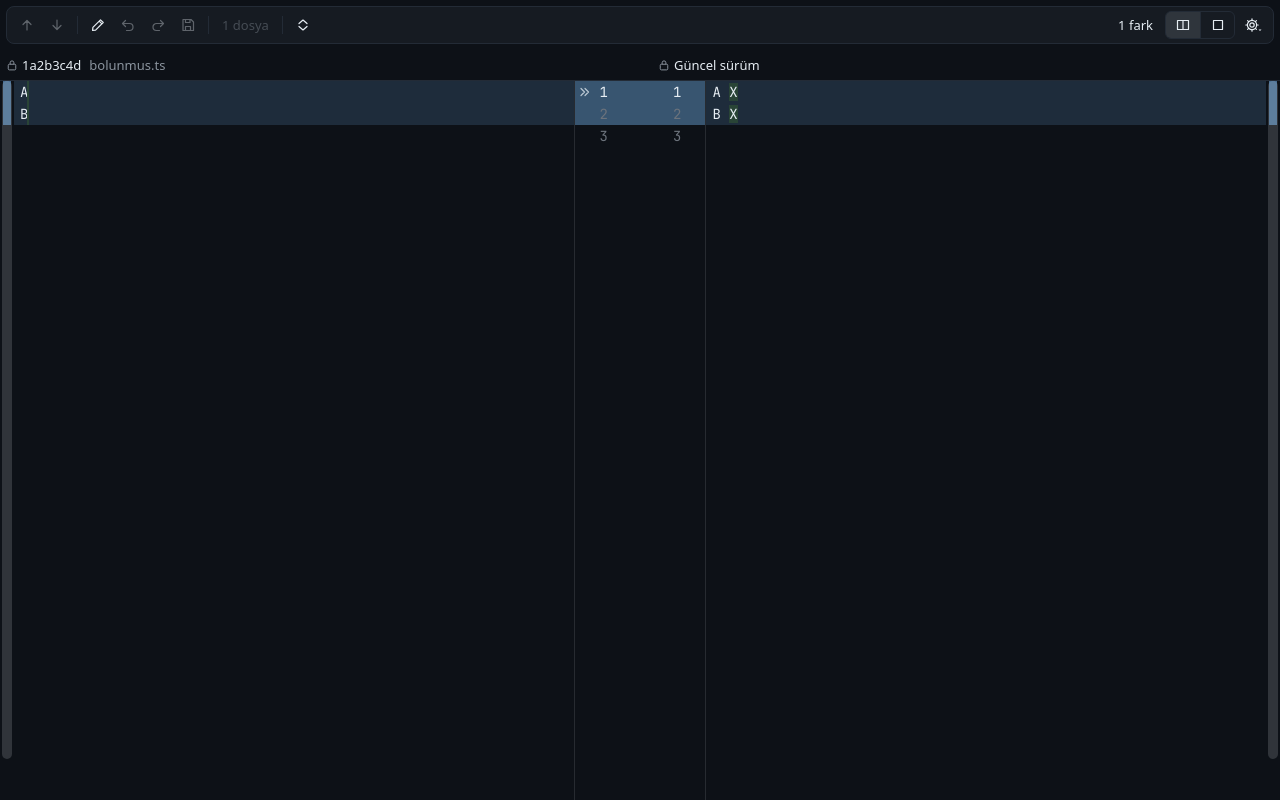
Test: dişli menüsündeki seçenekler › vurgulama: bölünmüş değişiklikler bir bloğu ikiye ayırıyor
The image size is (1280, 800).
Click the button named "Ayarlar (Ctrl+Shift+D)". click: (1253, 25)
box: [1239,11,1267,39]
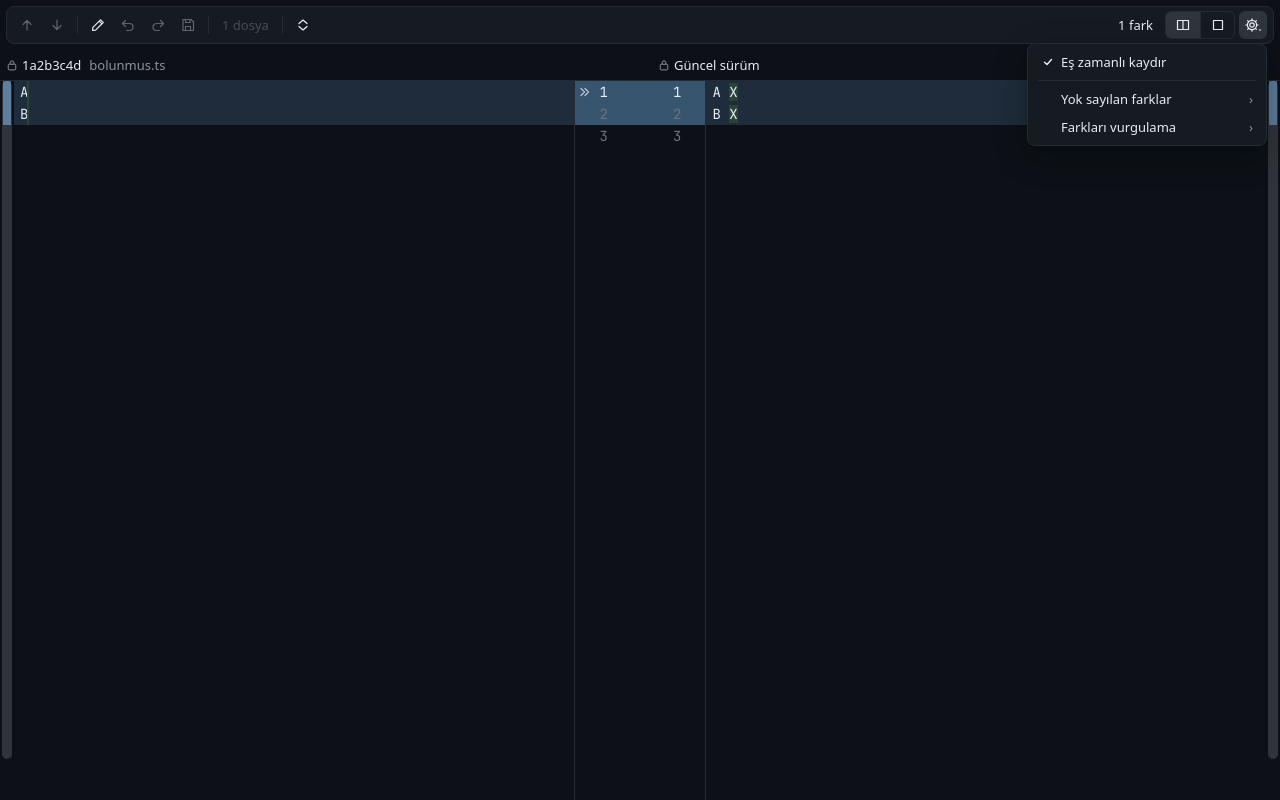
Hover over the text "Farkları vurgulama" at (1147, 127), box [1032,113,1262,141]
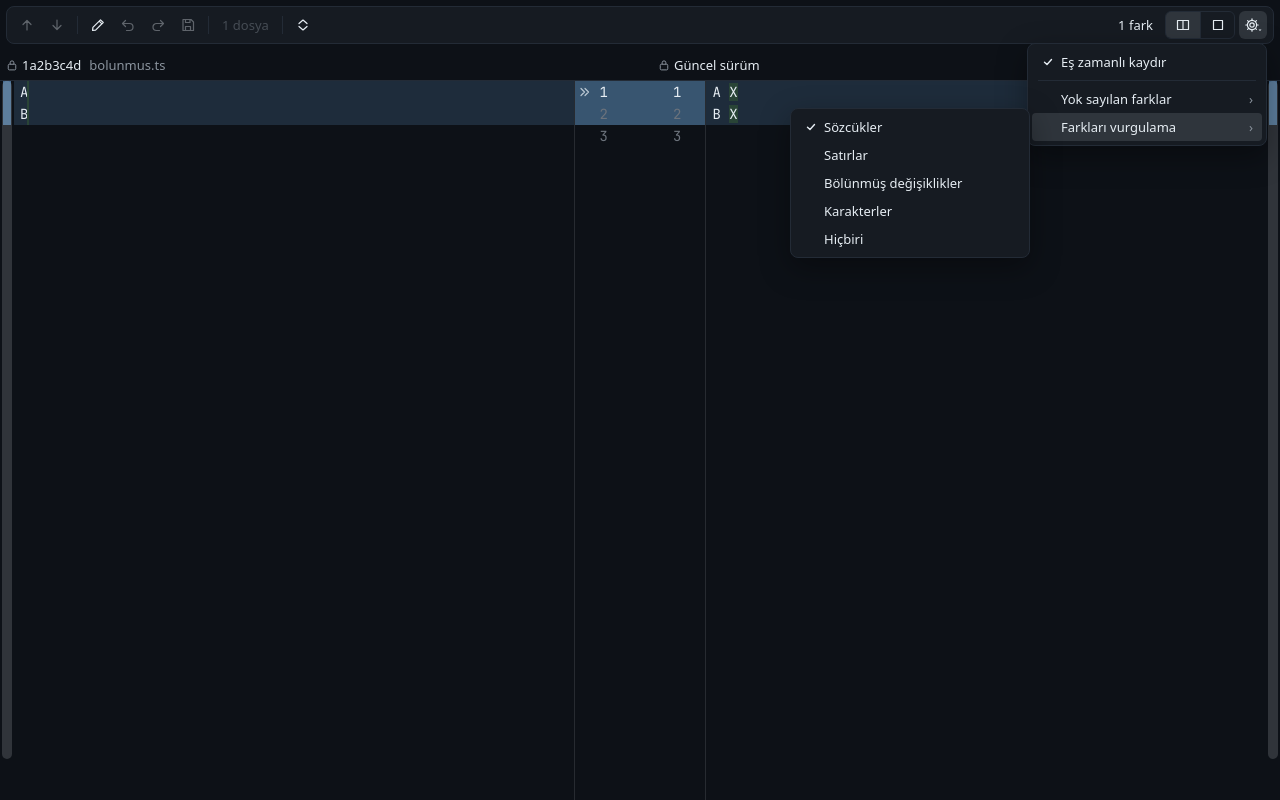
Click the menu item "Bölünmüş değişiklikler". click: (910, 183)
box: [795,169,1025,197]
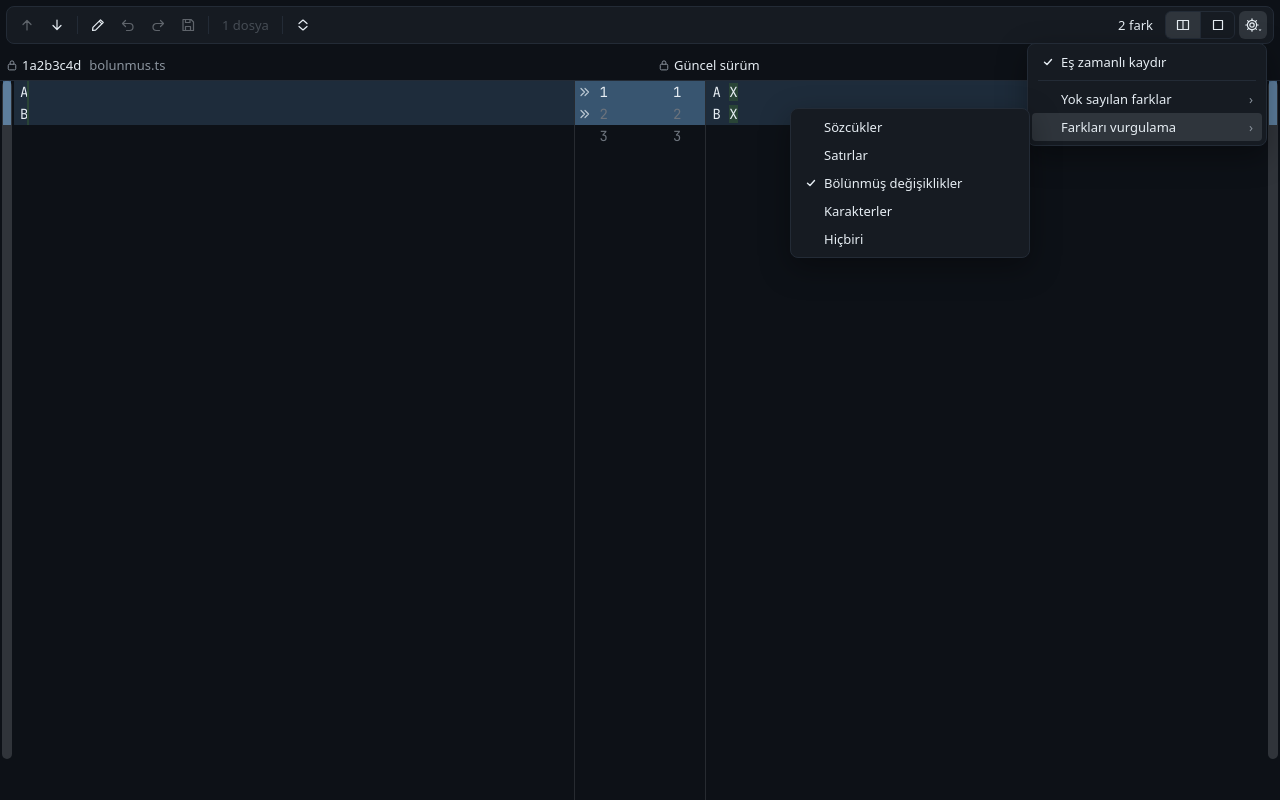
Expected: the text with class "dw-status" reads "2 fark", [1118,16,1153,34]
